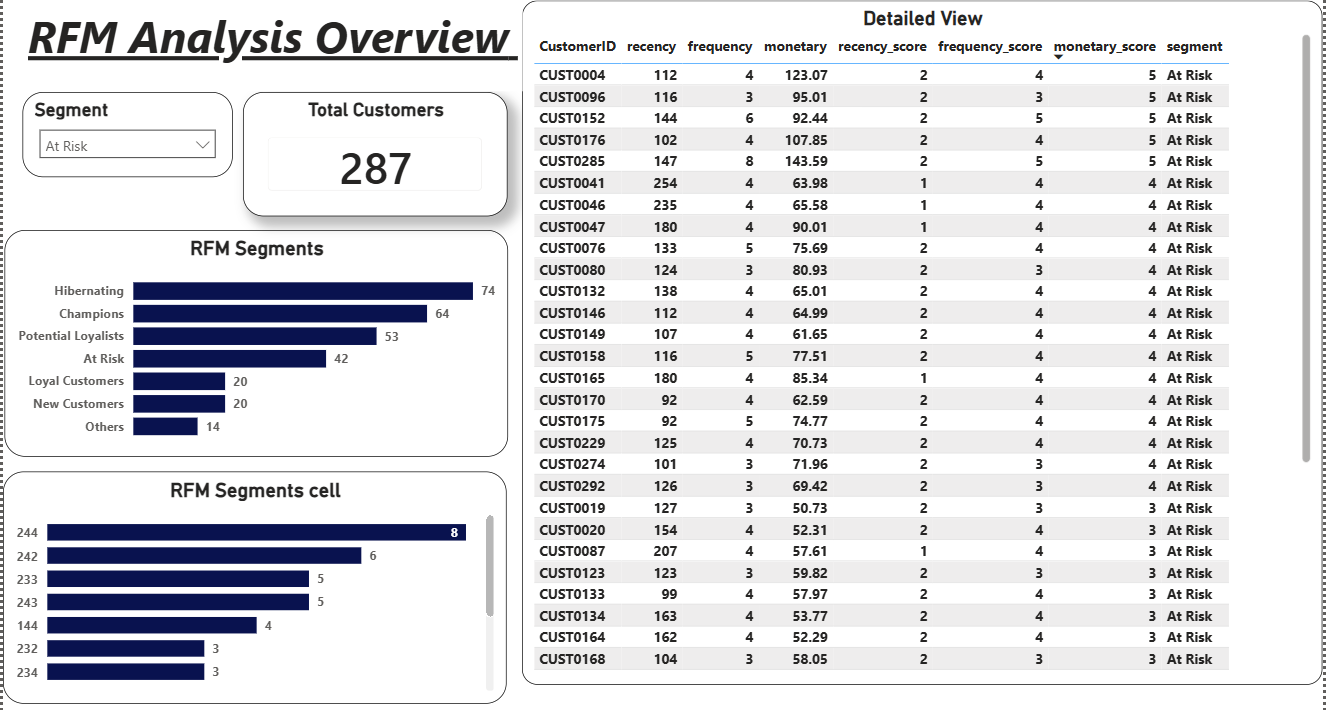

This screenshot's page, from the dashboard's own definition file:
{"tool":"powerbi","page":{"name":"Report","canvas":[1280,720],"ordinal":0},"visuals":[{"type":"clusteredBarChart","title":"RFM Segments","fields":{"Category":["rfm_segments_final.segment"],"Y":["CountNonNull(rfm_segments_final.CustomerID)"]},"box":[1.7,238.5,488.7,220.3],"z":0},{"type":"cardVisual","title":"Total Customers","fields":{"Data":["rfm_segments_final.Total_Customers"]},"box":[233.6,104.4,256.8,120.9],"z":1000},{"type":"tableEx","title":"Detailed View","fields":{"Values":["rfm_segments_final.CustomerID","rfm_segments_final.recency","rfm_segments_final.frequency","rfm_segments_final.monetary","rfm_segments_final.recency_score","rfm_segments_final.frequency_score","rfm_segments_final.monetary_score","rfm_segments_final.segment"]},"box":[503.6,16.6,776.9,664.2],"z":2000},{"type":"slicer","title":"Segment","fields":{"Values":["rfm_segments_final.segment"]},"box":[18.2,104.4,203.7,82.8],"z":3000},{"type":"textbox","box":[18.2,16.6,485.3,87.8],"z":4000},{"type":"clusteredBarChart","title":"RFM Cell Distribution","fields":{"Category":["rfm_segments_final.rfm_cell"],"Y":["CountNonNull(rfm_segments_final.CustomerID)"]},"box":[0,473.8,488.7,225.3],"z":5000}]}

Visuals, with their boxes on the page's 1280x720 design canvas (x1, y1, x2, y2). These are canvas units, not pixel positions in the 1328x710 screenshot, which may show the page scaled, cropped or inside an application window:
"RFM Segments" clusteredBarChart: region(2, 238, 490, 459)
"Total Customers" cardVisual: region(234, 104, 490, 225)
"Detailed View" tableEx: region(504, 17, 1280, 681)
"Segment" slicer: region(18, 104, 222, 187)
textbox: region(18, 17, 504, 104)
"RFM Cell Distribution" clusteredBarChart: region(0, 474, 489, 699)
